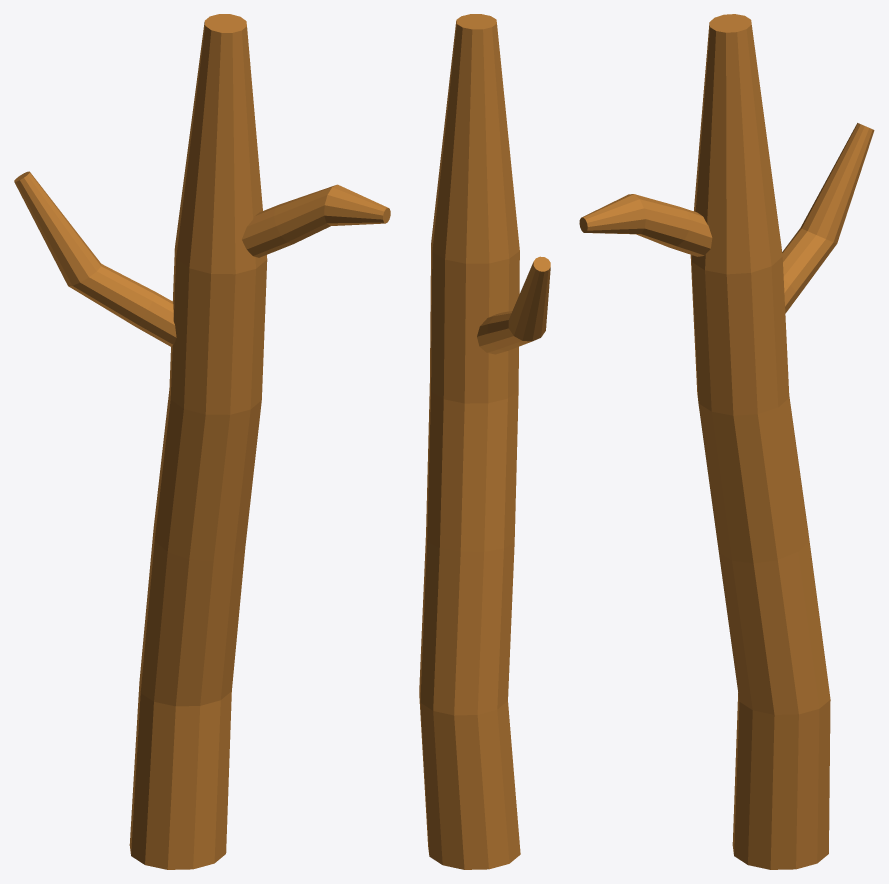
The model's file is Mod_Stick_Spinning_MIGHT_WORK.fbx.
3 renders of one model, left to right at view 1: azimuth 30°, elevation 25°; view 2: azimuth 150°, elevation 25°; view 3: azimuth 270°, elevation 25°, orthographic. The views are drawn at different scales.
Parts seen in each view (by area): view 1: Cylinder; view 2: Cylinder; view 3: Cylinder.
Part boxes in pixels (x1,y1,x2,y2): Cylinder: (14, 14, 390, 869); Cylinder: (419, 14, 550, 869); Cylinder: (579, 14, 874, 869).
Size of the model in its own units: 478 by 1620 by 517.
